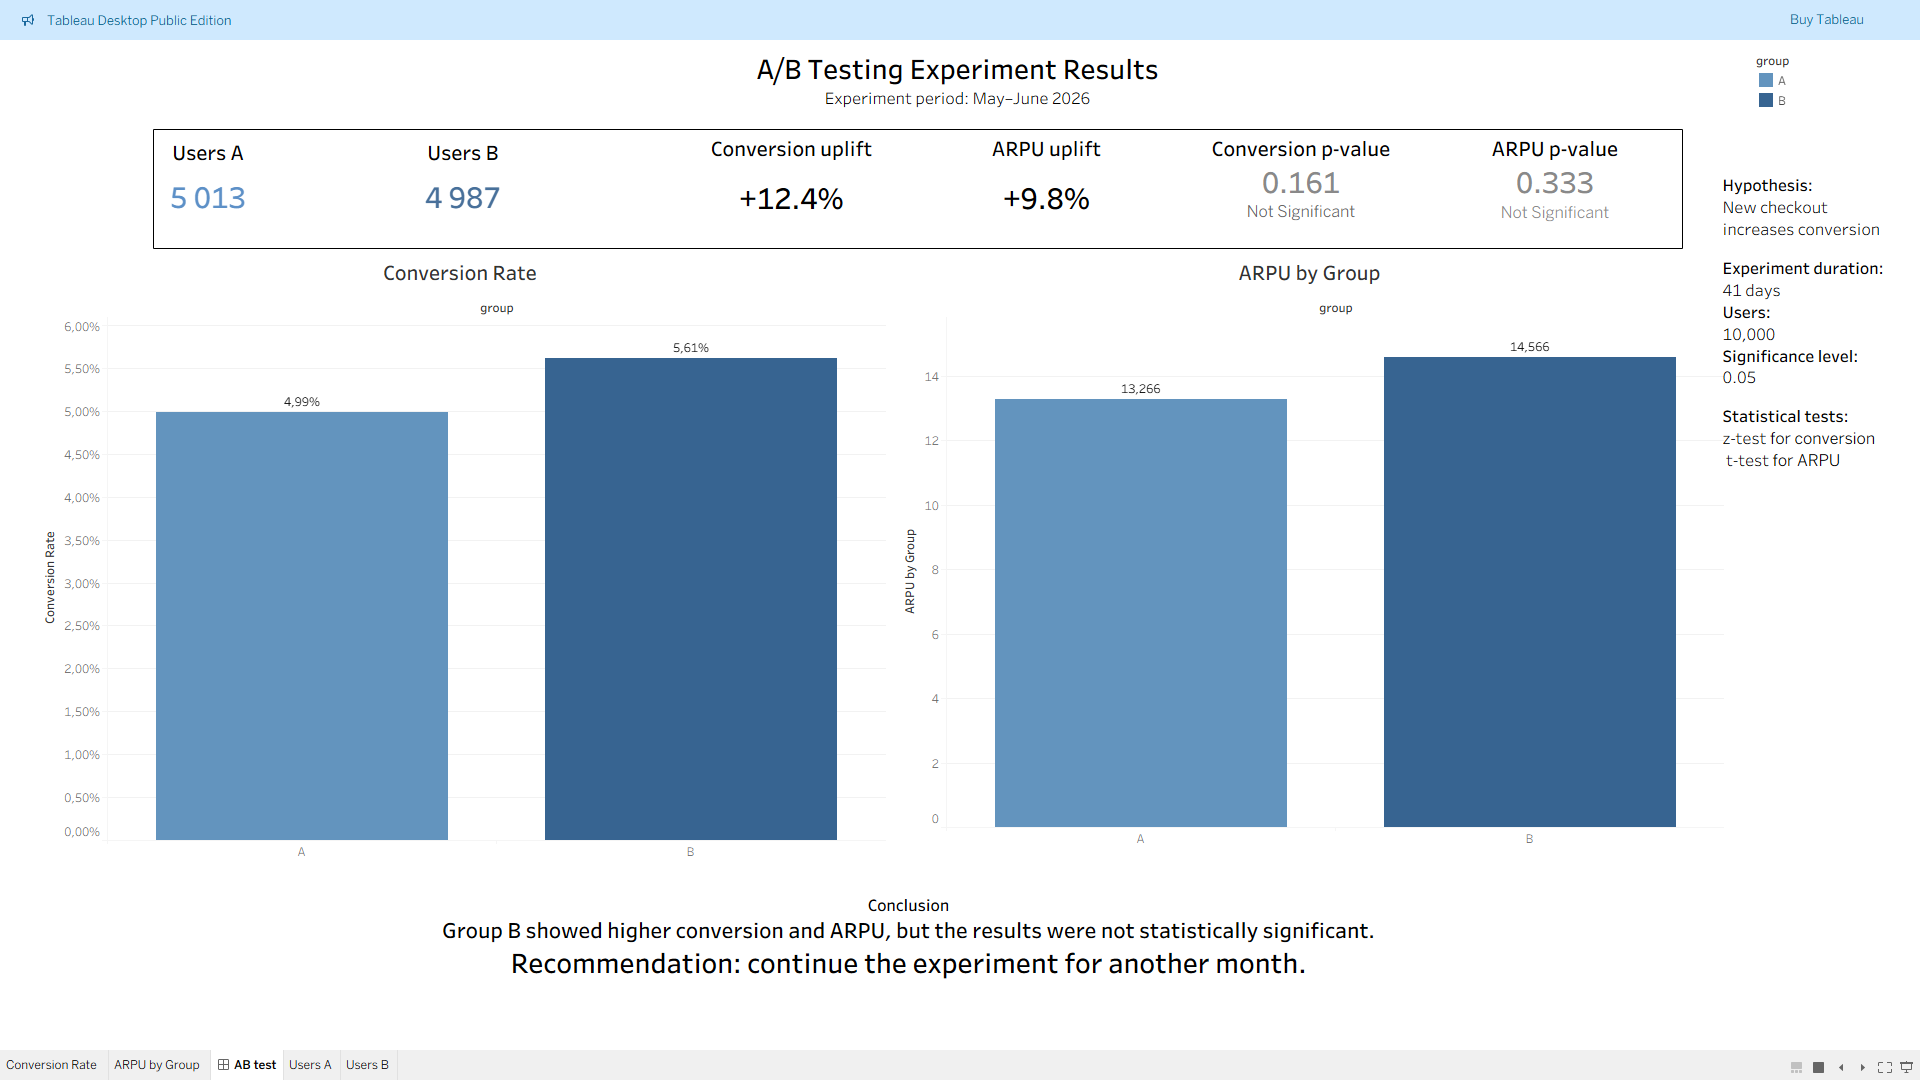

This screenshot's page, from the dashboard's own definition file:
{"tool":"tableau","page":{"name":"AB test","canvas":[1000,1000],"units":"permille","ordinal":0},"visuals":[{"type":"legend","title":"Conversion Rate","param":"[federated.1g7dcvm0mr7aoh11lazjf1qfpeoe].[none:group:nk]","box":[901.7,9.3,93.6,76.4]},{"type":"text","box":[895.9,74.1,95.4,419]},{"type":"worksheet","title":"Users A","mark":"Automatic","box":[80.2,89.1,132.8,116.9]},{"type":"worksheet","title":"Users B","mark":"Automatic","box":[213,89.1,132.8,116.9]},{"type":"text","box":[345.8,89.1,132.8,116.9]},{"type":"text","box":[478.6,89.1,132.8,116.9]},{"type":"text","box":[611.5,89.1,132.2,116.9]},{"type":"text","box":[743.7,89.1,132.2,116.9]},{"type":"worksheet","title":"Conversion Rate","mark":"Automatic","rows":["conversion"],"cols":["group"],"box":[15.7,208.3,448.4,608.8]},{"type":"worksheet","title":"ARPU by Group","mark":"Automatic","rows":["revenue"],"cols":["group"],"box":[464.1,208.3,436.1,608.8]},{"type":"text","box":[136.3,817.1,673.5,143.5]}]}

Visuals, with their boxes on the dashboard's canvas, which has no fixed pixel size, in thousandths of its width and height (x1, y1, x2, y2). These are canvas units, not pixel positions in the 1920x1080 screenshot, which may show the page scaled, cropped or inside an application window:
"Conversion Rate" legend: 902/9/995/86
text: 896/74/991/493
"Users A" worksheet: 80/89/213/206
"Users B" worksheet: 213/89/346/206
text: 346/89/479/206
text: 479/89/611/206
text: 612/89/744/206
text: 744/89/876/206
"Conversion Rate" worksheet: 16/208/464/817
"ARPU by Group" worksheet: 464/208/900/817
text: 136/817/810/961
